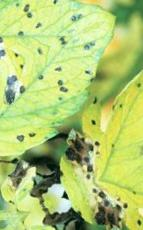Tomato leaf bacterial spot: (0, 7, 143, 165), (34, 57, 143, 195)
